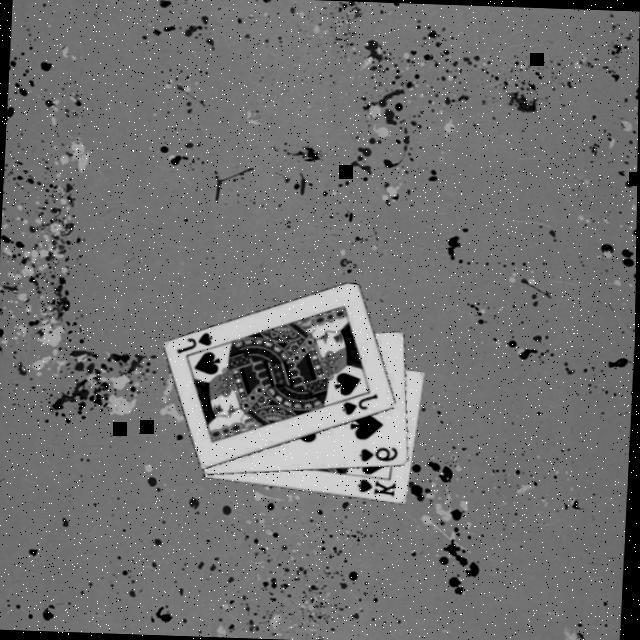6S: (358, 444, 402, 468)
JS: (176, 330, 217, 359), (342, 392, 382, 419)
KS: (356, 478, 401, 502)
